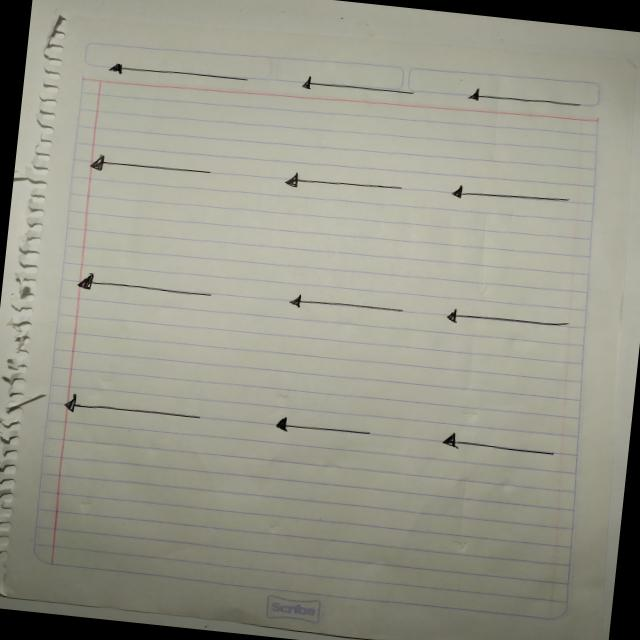arrow_line_left: (50, 390, 214, 432), (62, 266, 220, 308), (436, 303, 580, 340), (99, 56, 252, 90), (456, 82, 593, 118), (441, 180, 578, 216), (432, 427, 564, 464), (276, 289, 419, 323), (80, 150, 220, 184), (290, 68, 426, 102), (275, 168, 408, 202), (264, 410, 378, 446)
